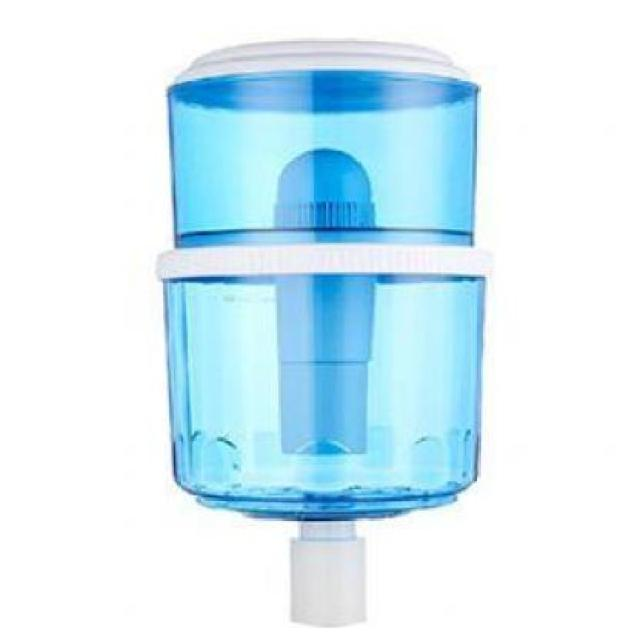coolerbottle: (160, 34, 494, 529)
